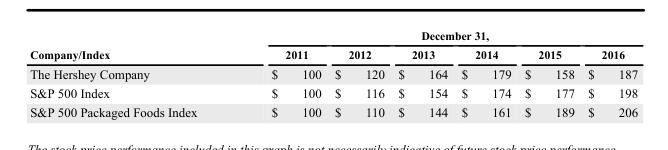table: (29, 28, 637, 119)
table column: (29, 28, 233, 119), (233, 28, 327, 119), (390, 28, 454, 119), (327, 28, 390, 119), (454, 28, 517, 119), (517, 28, 580, 119), (580, 28, 637, 119)
table column header: (29, 28, 637, 63)
table row: (29, 82, 637, 102), (29, 44, 637, 63), (29, 63, 637, 82), (29, 102, 637, 119), (29, 28, 637, 44)
table spanning cell: (29, 28, 233, 63), (233, 28, 637, 44)
